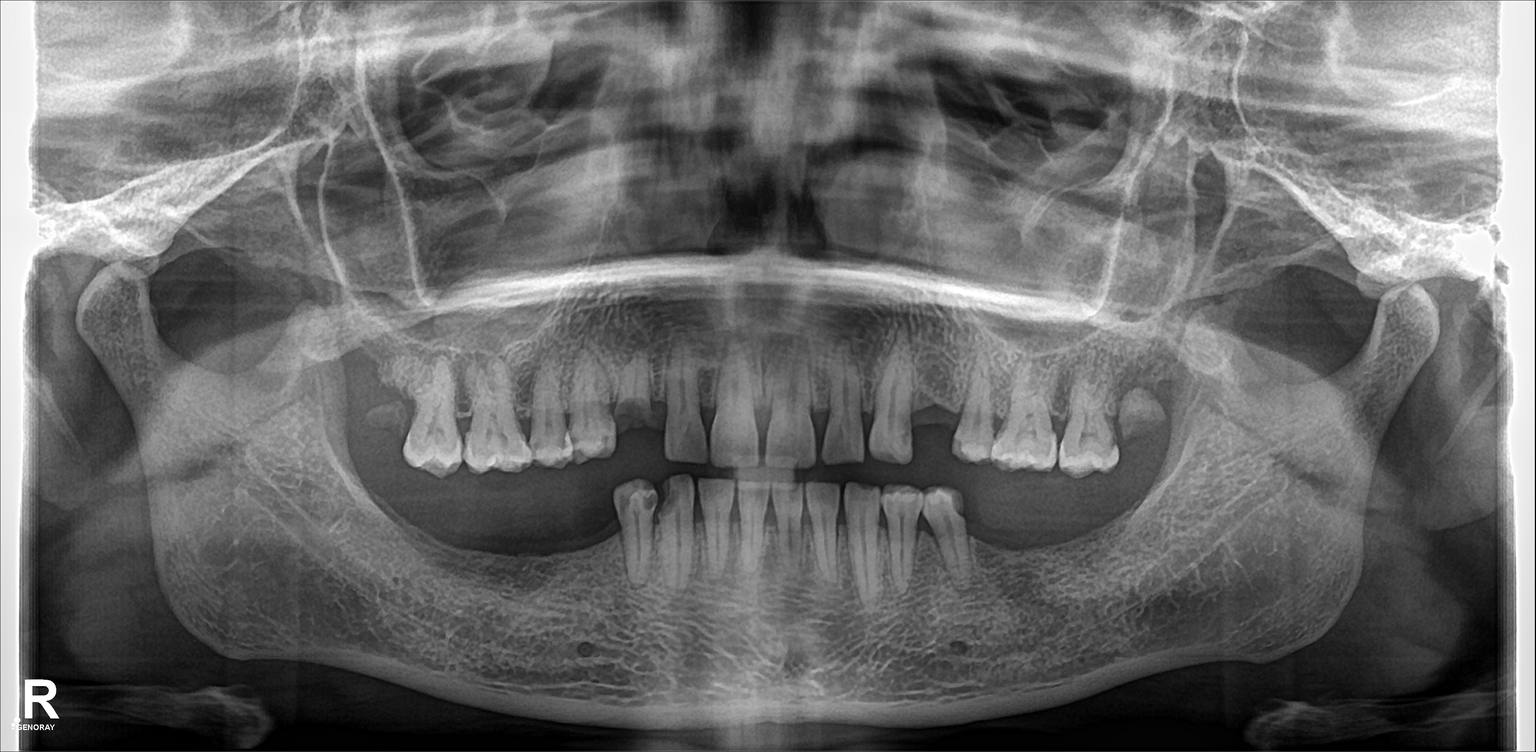Dental Caries: (611, 389, 660, 429), (654, 486, 676, 521), (946, 491, 965, 517)
Missing Tooth: (968, 490, 1031, 590), (350, 359, 404, 466), (905, 344, 958, 451), (462, 497, 517, 596), (529, 497, 572, 593), (1043, 491, 1086, 587), (1132, 482, 1172, 584), (372, 491, 414, 582), (421, 495, 460, 584), (1088, 493, 1126, 579)
Retained Root: (603, 350, 666, 463), (1110, 367, 1172, 457)
